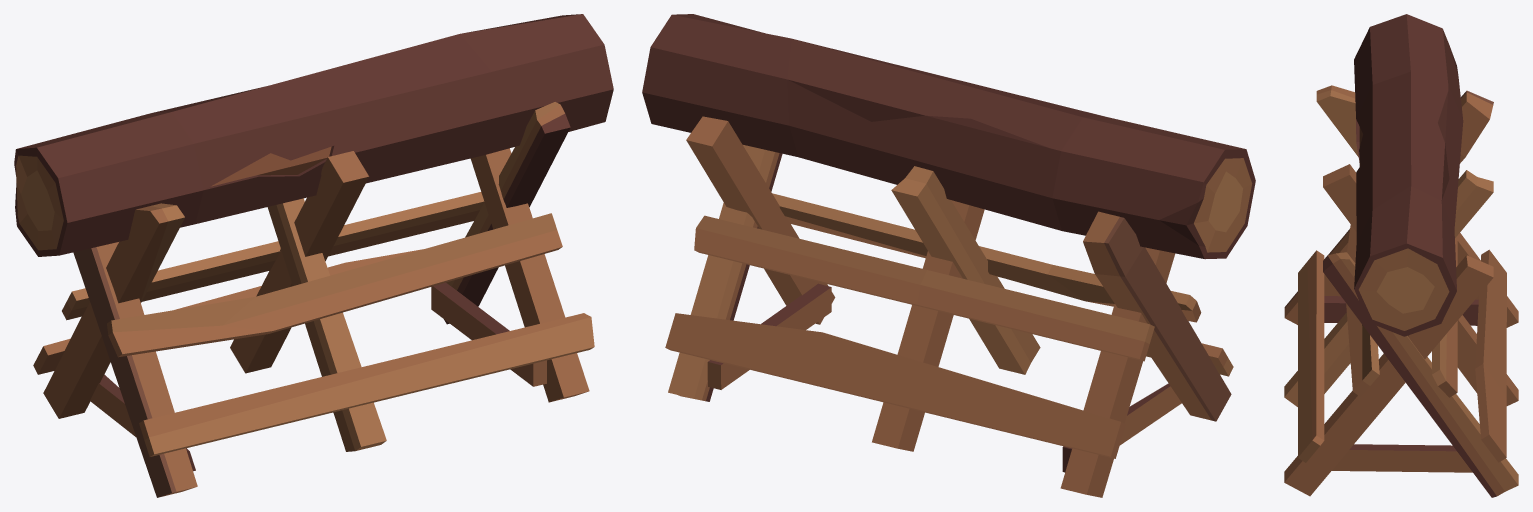
File: goat_with_log.fbx
3 views of the same model, side by side, from view 1: azimuth 30°, elevation 25°; view 2: azimuth 150°, elevation 25°; view 3: azimuth 270°, elevation 25° (orthographic). The views are drawn at different scales.
Parts seen in each view (by area): view 1: goats_for_sawing, Deck; view 2: goats_for_sawing, Deck; view 3: goats_for_sawing, Deck.
Boxes of the visible parts, x1,y1,x2,y2 form: goats_for_sawing: (33,102,594,497); Deck: (14,14,613,256); goats_for_sawing: (665,116,1233,497); Deck: (642,14,1255,259); goats_for_sawing: (1284,85,1518,497); Deck: (1354,14,1463,336).
Size of the model in its own units: 1.93 by 1.12 by 0.8311.
